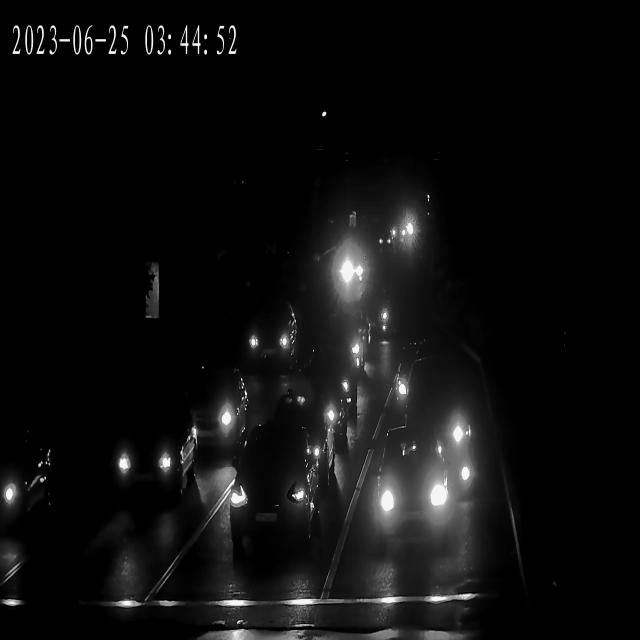Car: (228, 433, 321, 558), (396, 360, 476, 499), (95, 397, 196, 502), (156, 364, 248, 454), (270, 381, 340, 486), (370, 454, 454, 541), (0, 422, 58, 544), (308, 332, 362, 439), (323, 295, 375, 373), (237, 305, 295, 365), (352, 297, 393, 340), (331, 249, 370, 288), (388, 215, 416, 248)
